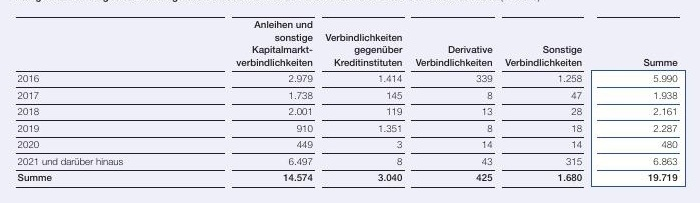table: (0, 0, 700, 203)
